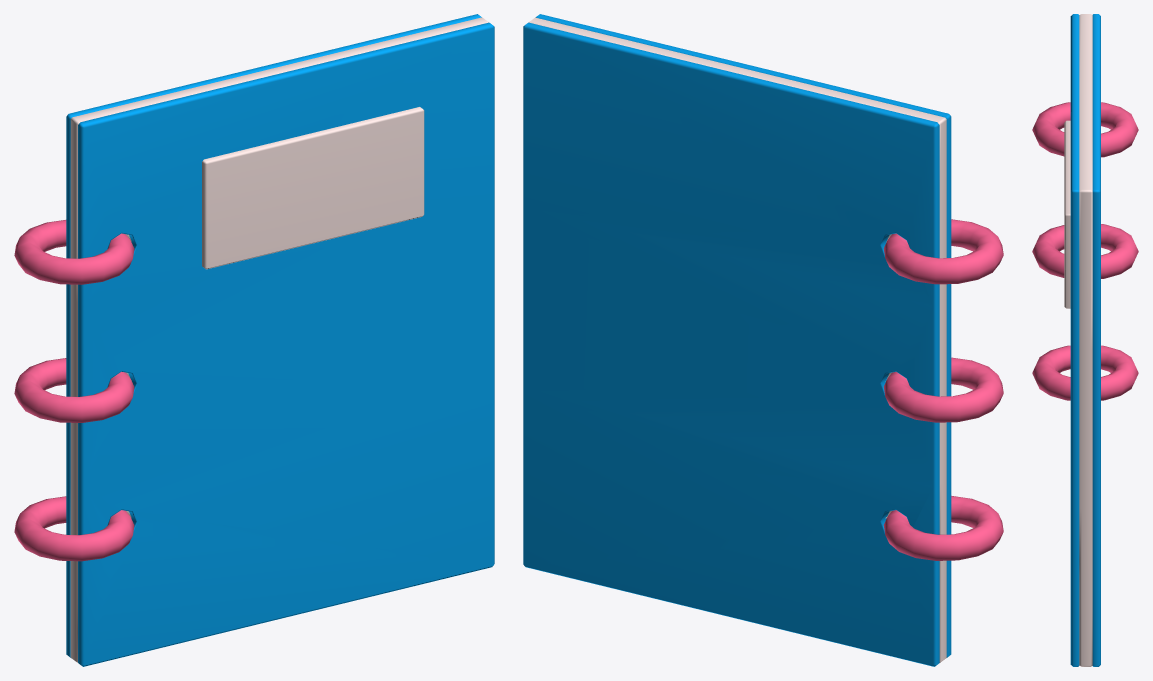
The model's file is Public_8_Notebook_3.glb.
3 renders of one model, left to right at view 1: azimuth 30°, elevation 25°; view 2: azimuth 150°, elevation 25°; view 3: azimuth 270°, elevation 25°, orthographic. The views are drawn at different scales.
Visible parts, largest first — view 1: Public_8_Notebook_3; view 2: Public_8_Notebook_3; view 3: Public_8_Notebook_3.
Part boxes in pixels (bbox=[...]): Public_8_Notebook_3: bbox=[14, 14, 494, 666]; Public_8_Notebook_3: bbox=[523, 14, 1003, 666]; Public_8_Notebook_3: bbox=[1032, 14, 1138, 666].
Bounding box in the file's own units: 1.21 × 1.35 × 0.2736.
Materials: 1 (1 with a texture image).
